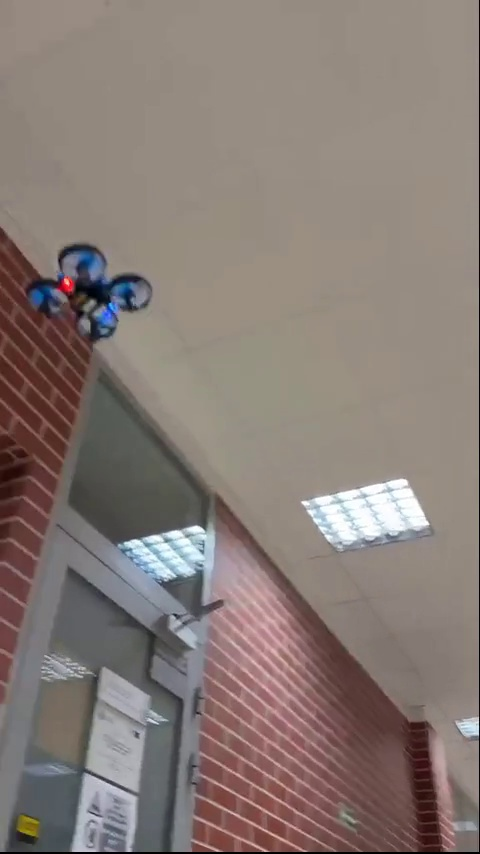drone: (26, 244, 158, 342)
